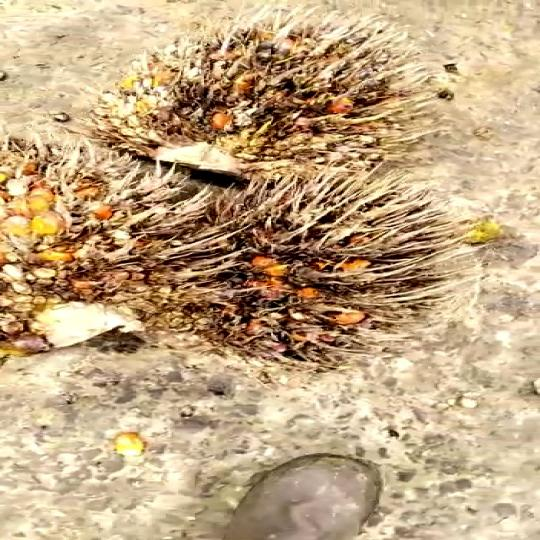terlalu masak: (183, 163, 456, 359), (81, 30, 440, 171)
